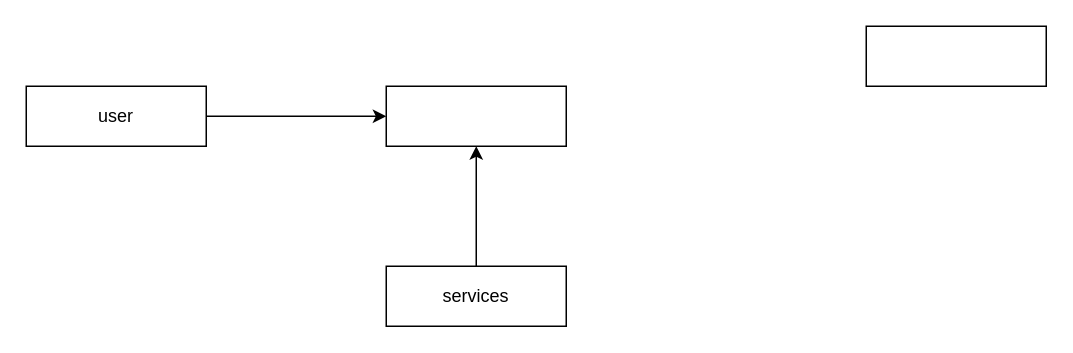
Image size: 1073x353. Some labels were removed from this diagram. The shapes that lost their labels are listed below. From the top down, each one's box as (x1, y1, x2, y2) in pixels, then its label:
(865, 25, 1046, 86): techniqians
(385, 85, 566, 146): service_requests
